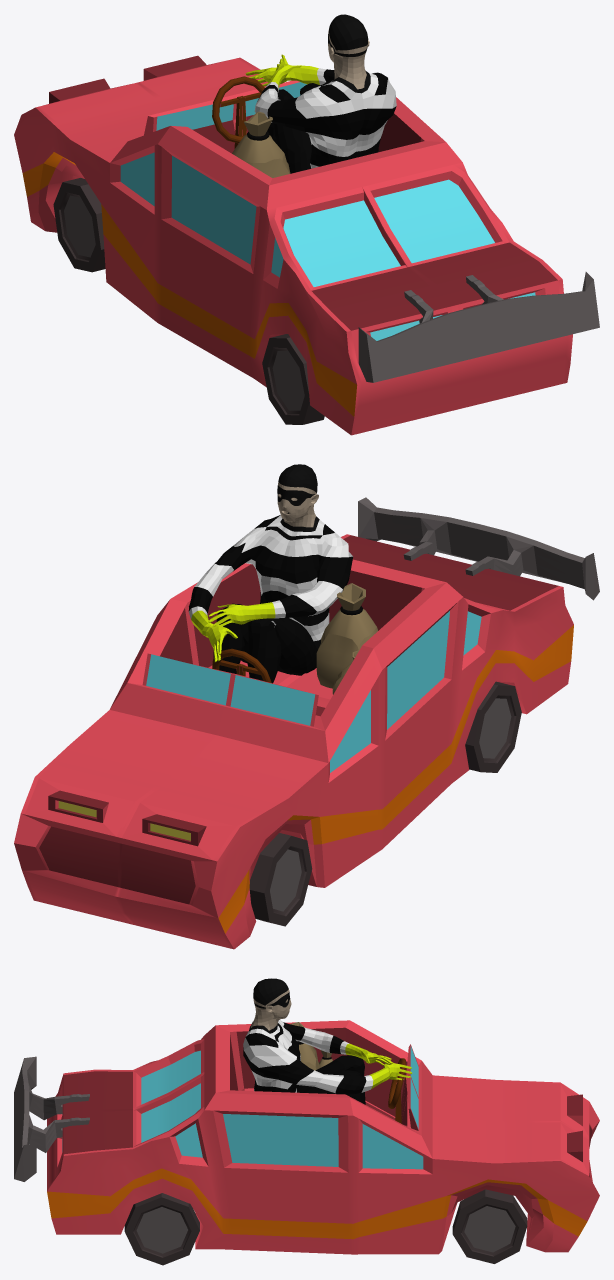
File: Burgler_In_Car.fbx
3 views of the same model, one above another, from view 1: azimuth 30°, elevation 25°; view 2: azimuth 150°, elevation 25°; view 3: azimuth 270°, elevation 25° (orthographic). The views are drawn at different scales.
Visible parts, largest first — view 1: Car, Burgler, Bumper, Tyre4, Tyre2, BigBag, SteringWhele; view 2: Car, Burgler, Bumper, Tyre4, Tyre2, BigBag; view 3: Car, Burgler, Tyre1, Bumper, Tyre3, SteringWhele, BigBag.
Part boxes in pixels (x1,y1,x2,y2): Car: [14, 55, 572, 435]; Burgler: [245, 14, 396, 173]; Bumper: [358, 272, 599, 382]; Tyre4: [53, 178, 105, 272]; Tyre2: [262, 334, 324, 424]; BigBag: [232, 134, 290, 177]; SteringWhele: [212, 76, 264, 143]; Car: [14, 534, 573, 949]; Burgler: [188, 464, 353, 683]; Bumper: [358, 497, 599, 600]; Tyre4: [249, 833, 312, 926]; Tyre2: [465, 681, 521, 772]; BigBag: [316, 609, 377, 688]; Car: [47, 1020, 599, 1254]; Burgler: [243, 978, 412, 1104]; Tyre1: [452, 1189, 527, 1263]; Bumper: [14, 1056, 89, 1181]; Tyre3: [124, 1193, 199, 1265]; SteringWhele: [388, 1058, 405, 1108]; BigBag: [299, 1043, 320, 1070].
Size of the model in its own units: 548 by 748 by 1562.
